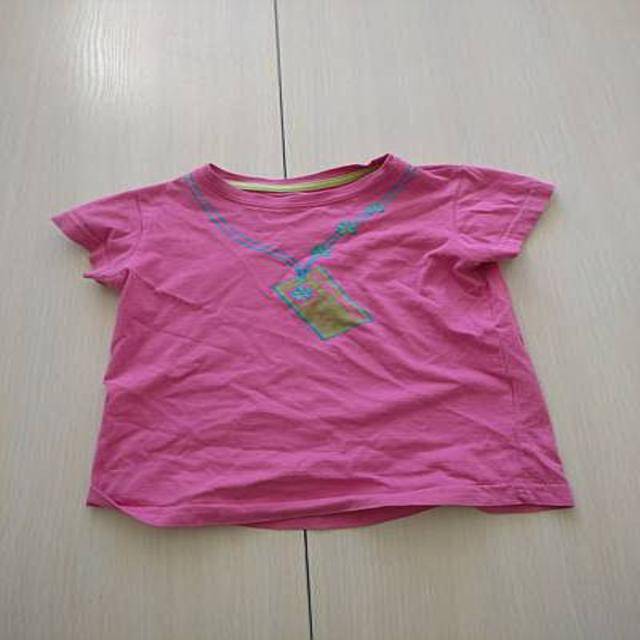T_SHIRT: (43, 143, 590, 546)
